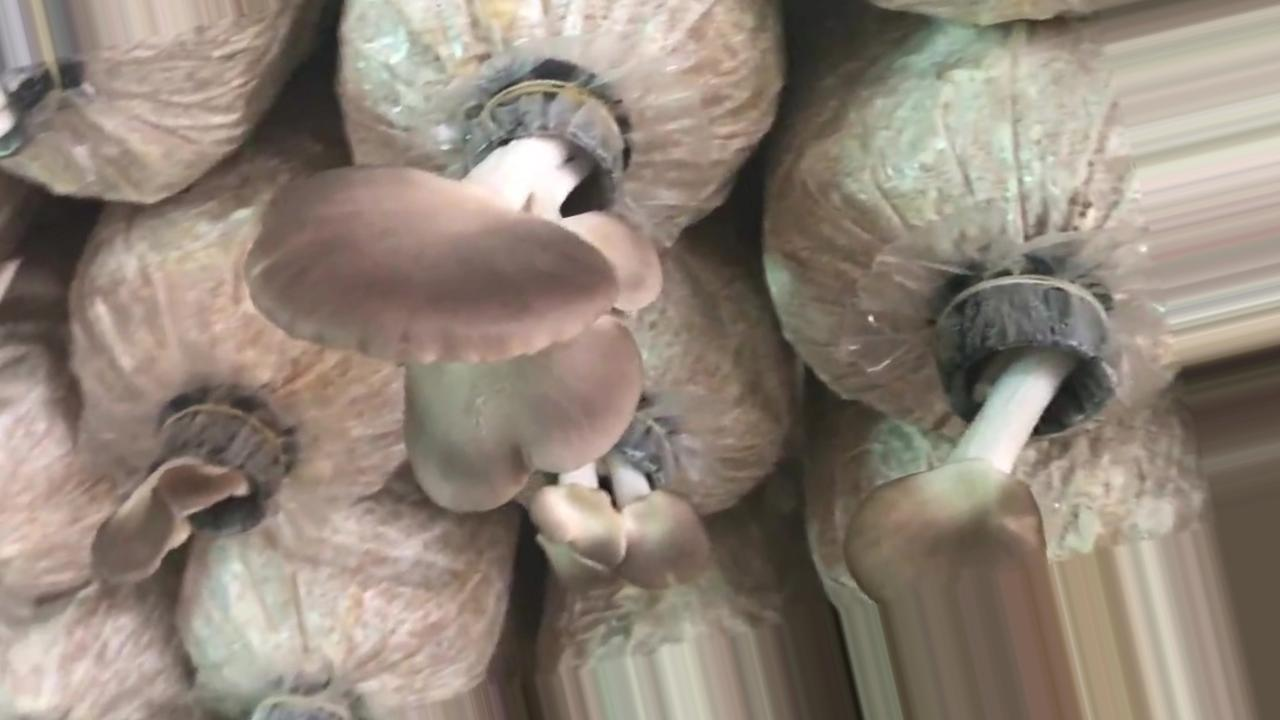nam: (252, 80, 660, 512), (842, 292, 1109, 720), (530, 411, 706, 596), (90, 414, 270, 582)
